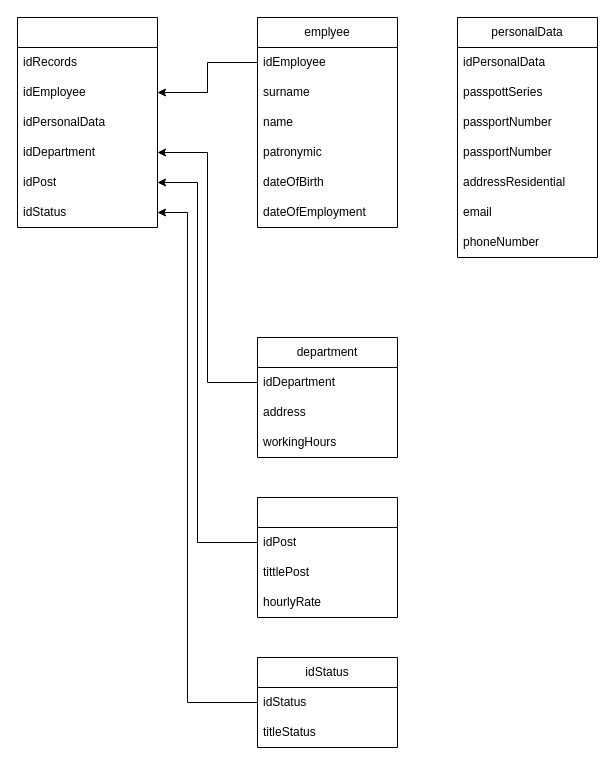
The diagram is 615 pixels wide and 765 high, and some of its shapes have lost their labels. The shapes that lost their labels are listed below. From the top down, each one's box as (x1, y1, x2, y2) in pixels, then its label:
(16, 16, 158, 228): employeeAccounting
(256, 496, 398, 618): status
